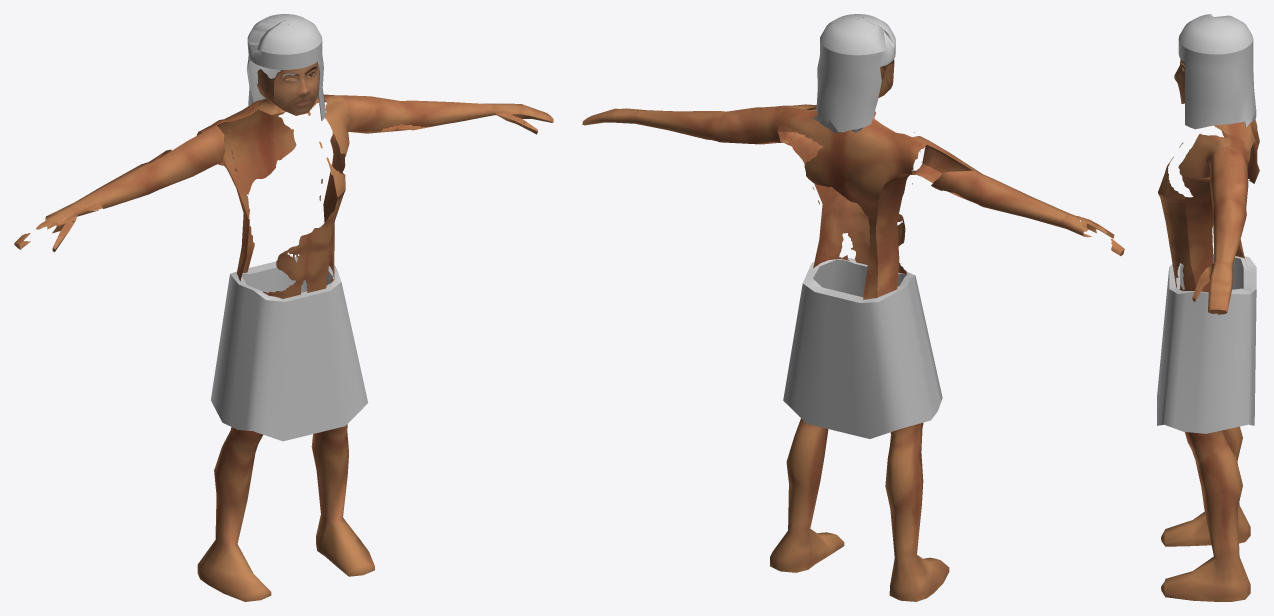
The model's file is f_visna_rw.fbx.
3 renders of one model, left to right at view 1: azimuth 30°, elevation 25°; view 2: azimuth 150°, elevation 25°; view 3: azimuth 270°, elevation 25°, orthographic.
Visible parts, largest first — view 1: f_hanuman.001 oskar.002; view 2: f_hanuman.001 oskar.002; view 3: f_hanuman.001 oskar.002.
Boxes of the visible parts, x1,y1,x2,y2 form: f_hanuman.001 oskar.002: (14,14,553,601); f_hanuman.001 oskar.002: (582,14,1124,601); f_hanuman.001 oskar.002: (1157,14,1259,601).
Size of the model in its own units: 292 by 288 by 49.04.
